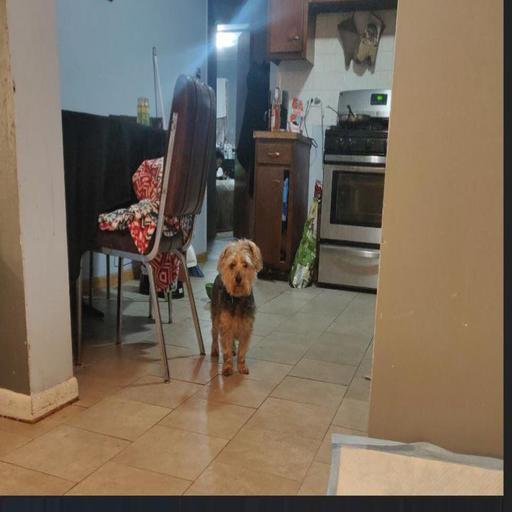dog: (184, 235, 297, 348)
